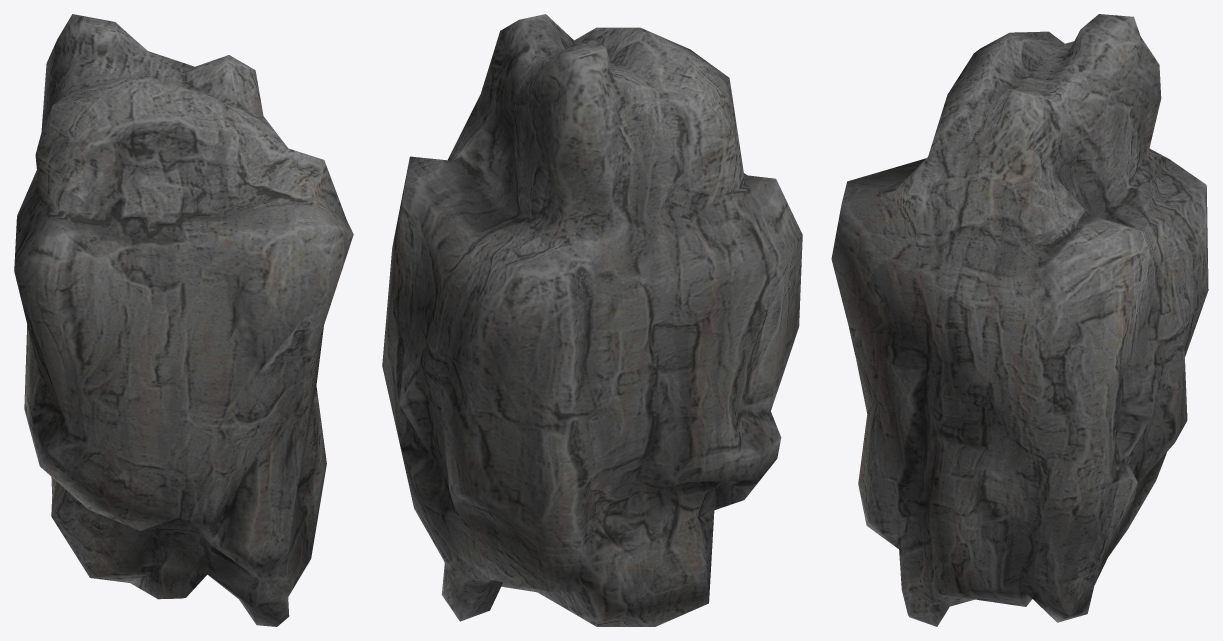
File: Rock_06.fbx
The picture shows the model from 3 angles, left to right: view 1: azimuth 30°, elevation 25°; view 2: azimuth 150°, elevation 25°; view 3: azimuth 270°, elevation 25°; orthographic projection. The views are drawn at different scales.
Visible parts, largest first — view 1: Rock_06; view 2: Rock_06; view 3: Rock_06.
Part boxes in pixels (bbox=[...]): Rock_06: bbox=[14, 14, 353, 626]; Rock_06: bbox=[382, 14, 802, 626]; Rock_06: bbox=[831, 14, 1208, 626].
Size of the model in its own units: 3.98 by 6.73 by 4.12.
